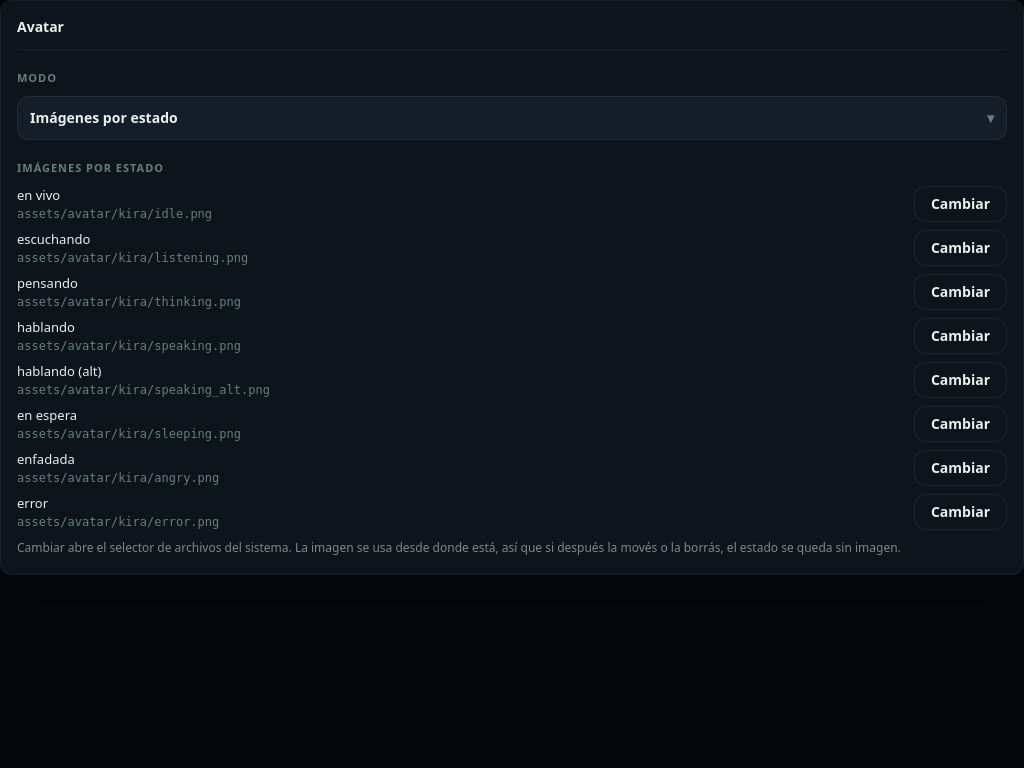
AvatarCard per-state image picks a real path through the native dialog › never drops the other states — every untouched path survives the PUT
The image size is (1024, 768).
Expected: the dropdown named "Modo" is shown, [17, 96, 1007, 140]
Click the button "Cambiar" in the row of "assets/avatar/kira/idle.png" at (960, 204), box [914, 186, 1007, 222]
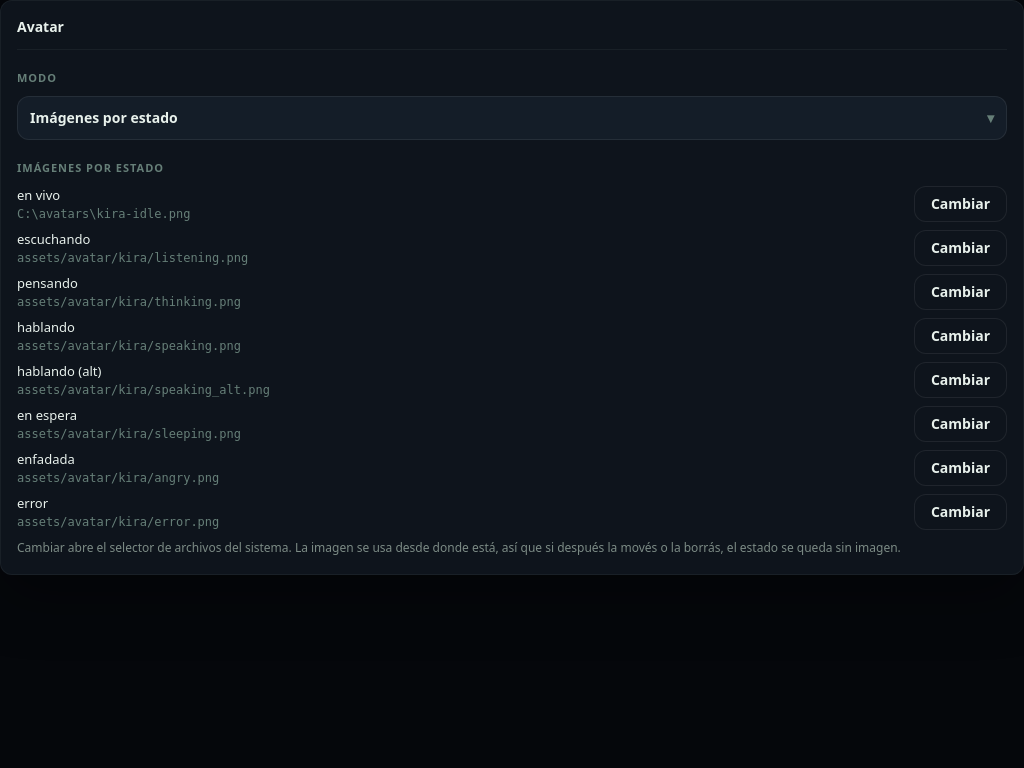
Expected: the text "assets/avatar/kira/listening.png" is shown, [17, 251, 248, 265]
Expected: the text "C:\\avatars\\kira-idle.png" is shown, [17, 207, 190, 221]
